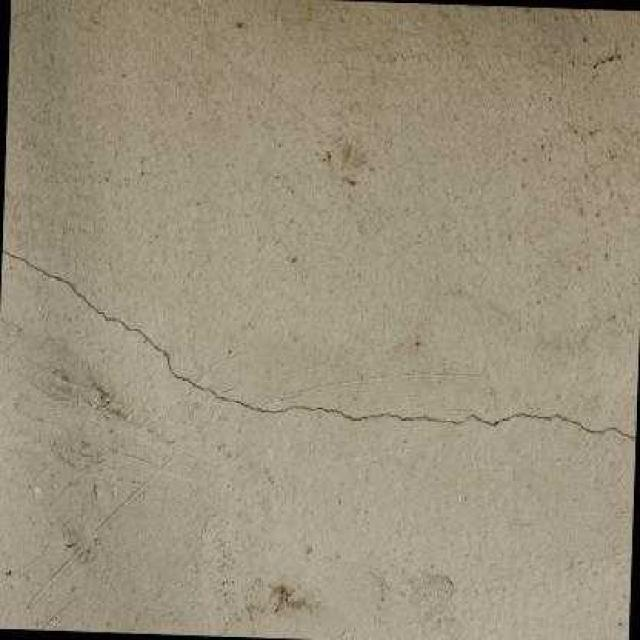D00: (2, 245, 636, 440)
